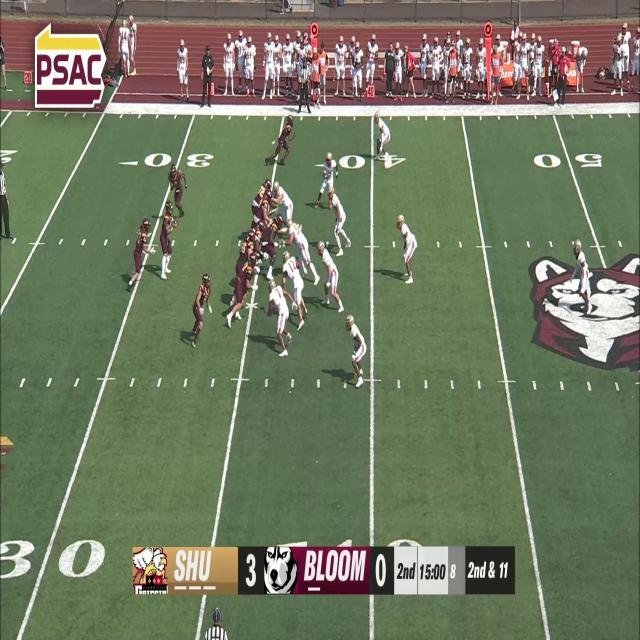football: (173, 217, 178, 226)
